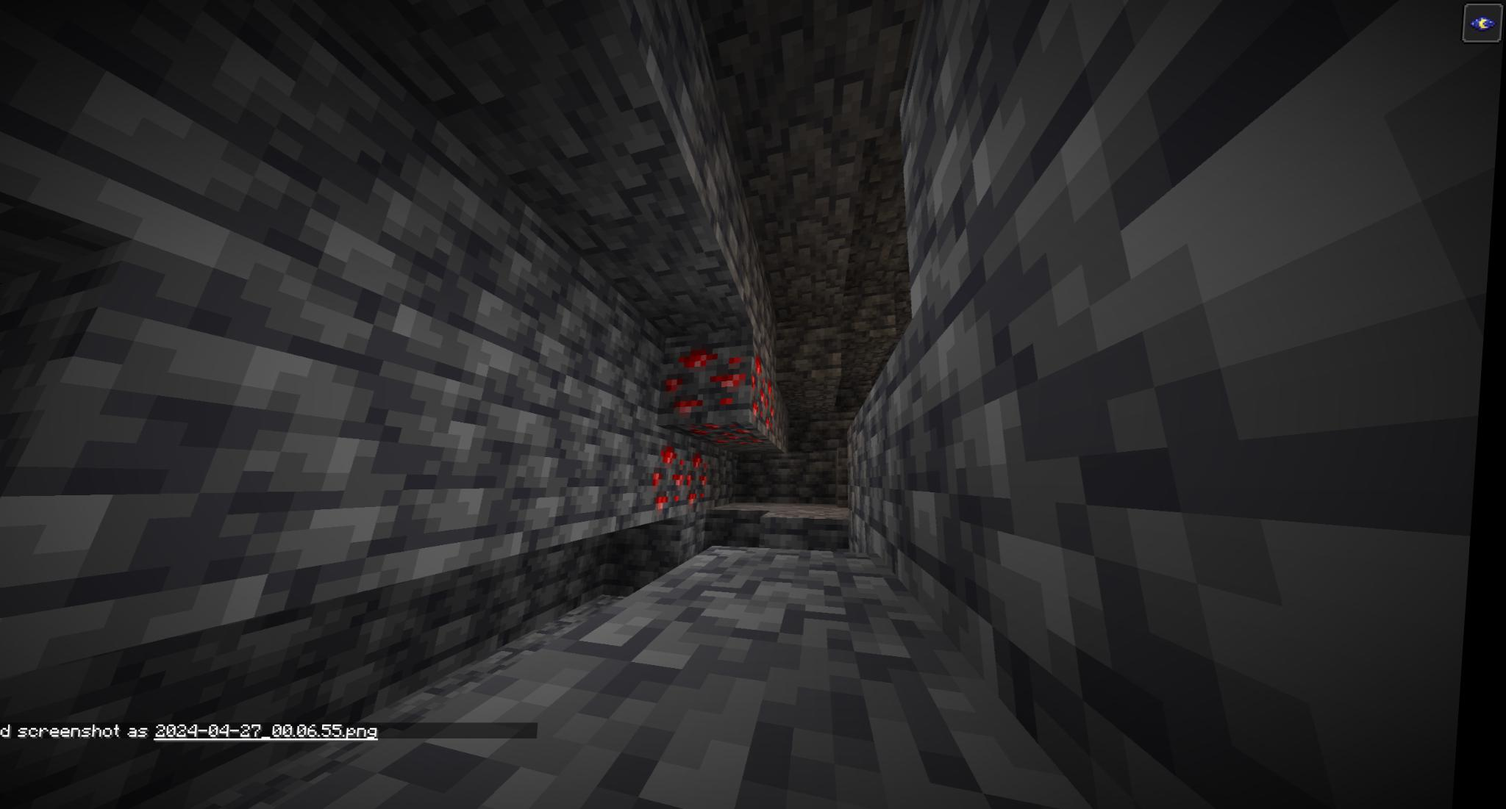redstone ore: (665, 343, 754, 418), (658, 443, 694, 515), (753, 356, 784, 427), (687, 448, 718, 513)
